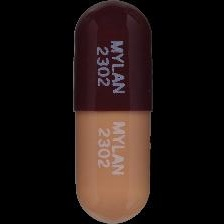43063-260: (0, 0, 224, 224)
